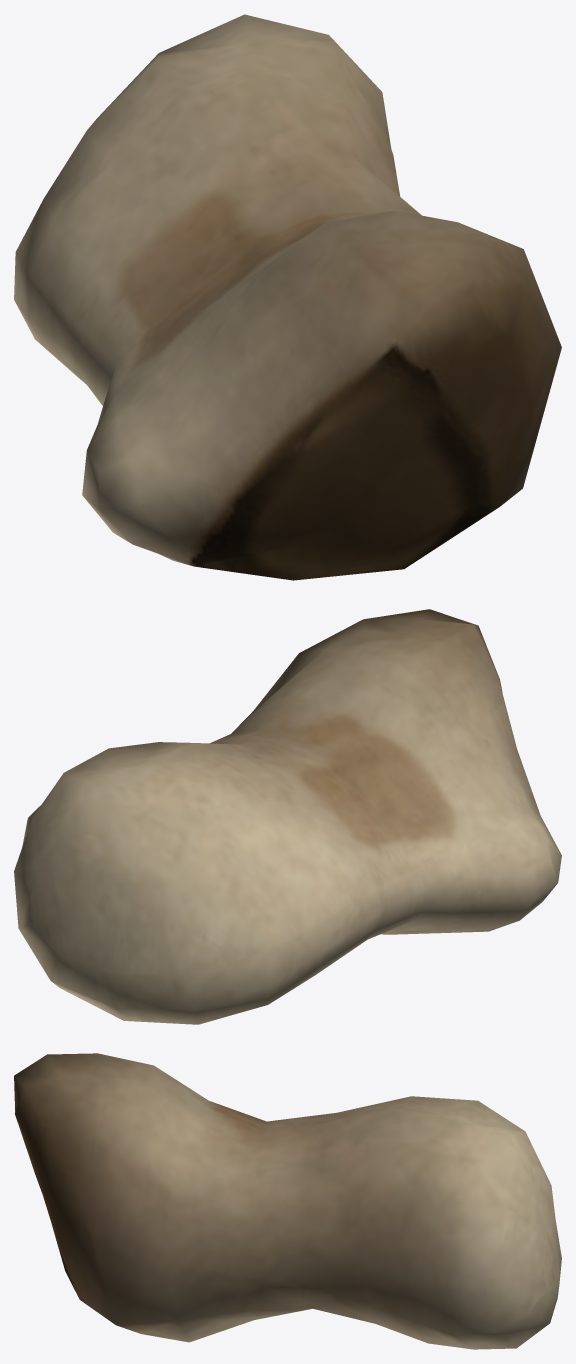
File: Accessory_Carpal.glb
The picture shows the model from 3 angles, top to bottom: view 1: azimuth 30°, elevation 25°; view 2: azimuth 150°, elevation 25°; view 3: azimuth 270°, elevation 25°; orthographic projection. The views are drawn at different scales.
Parts seen in each view (by area): view 1: Accessory_Carpal_Right1:Group24425; view 2: Accessory_Carpal_Right1:Group24425; view 3: Accessory_Carpal_Right1:Group24425.
Boxes of the visible parts, <box> form: Accessory_Carpal_Right1:Group24425: <box>14,14,561,580</box>; Accessory_Carpal_Right1:Group24425: <box>14,609,561,1024</box>; Accessory_Carpal_Right1:Group24425: <box>14,1053,561,1349</box>.
Bounding box in the file's own units: 12.86 × 8.67 × 17.18.
Materials: 1 (1 with a texture image).
